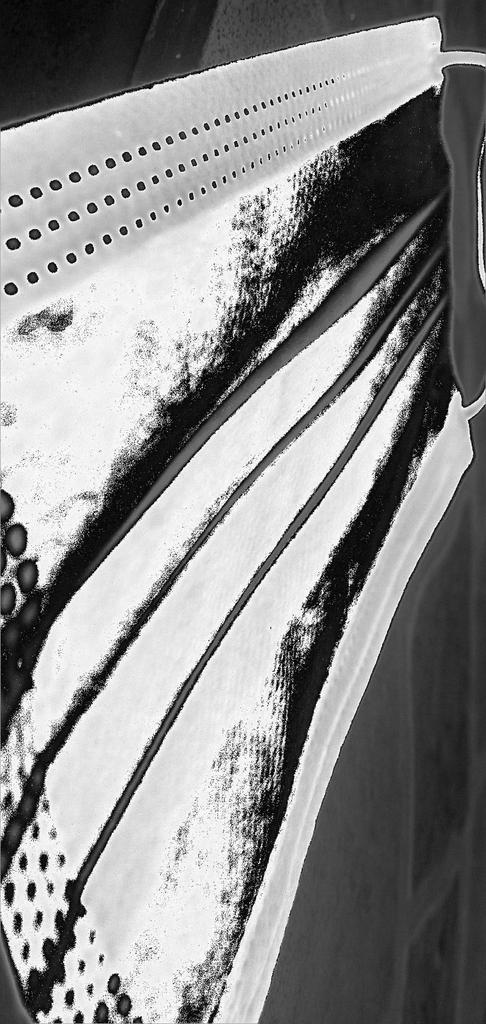High GSM: (1, 6, 481, 1024)
